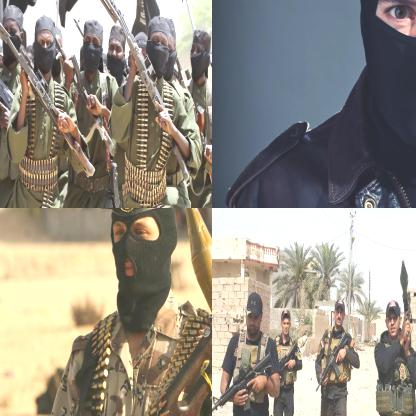rifle: (88, 0, 191, 188), (46, 309, 211, 415), (0, 0, 96, 181), (212, 346, 273, 415), (178, 87, 211, 207), (313, 324, 350, 398), (399, 251, 415, 322), (276, 338, 302, 378)
